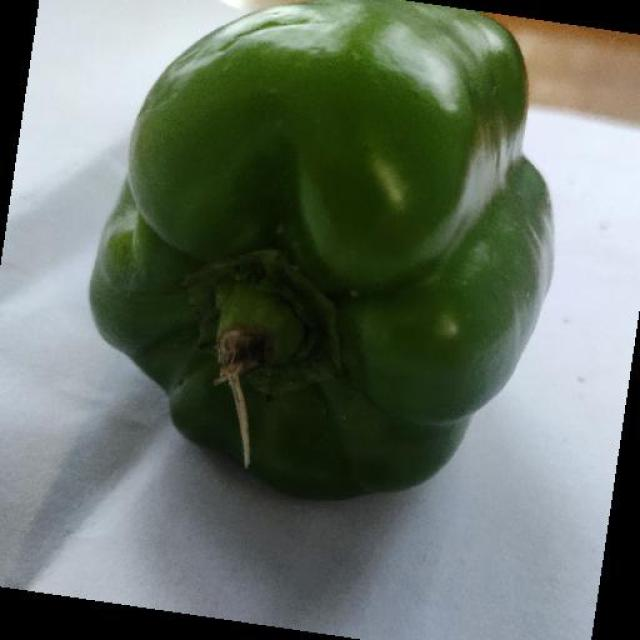Fresh_Capsicum: (110, 10, 519, 508)
